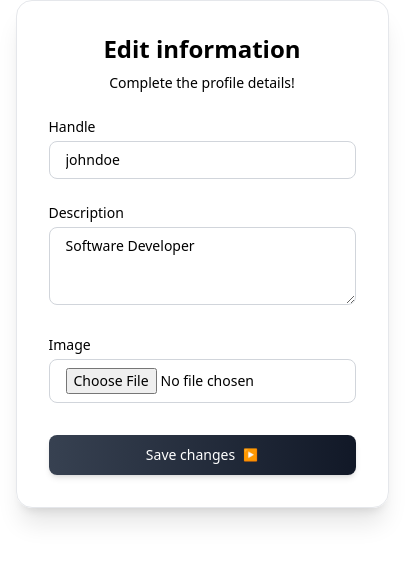
Test case: ProfileView › should show validation error for required handle field
The width and height of the screenshot is (406, 566).
// Type something and then clear it to trigger validation
In the field with placeholder "Handle or user name": (202, 160) [48, 141, 356, 179], type "test"
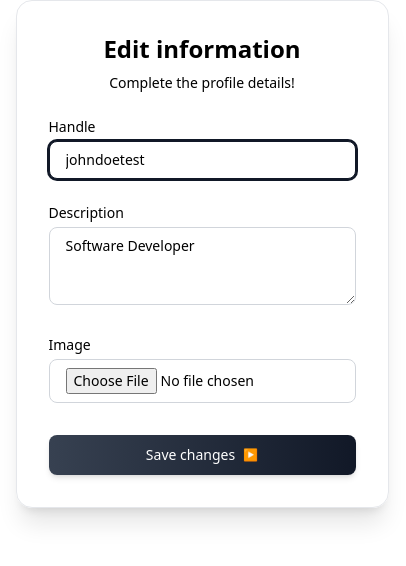
Clear the field with placeholder "Handle or user name": (202, 160) [48, 141, 356, 179]
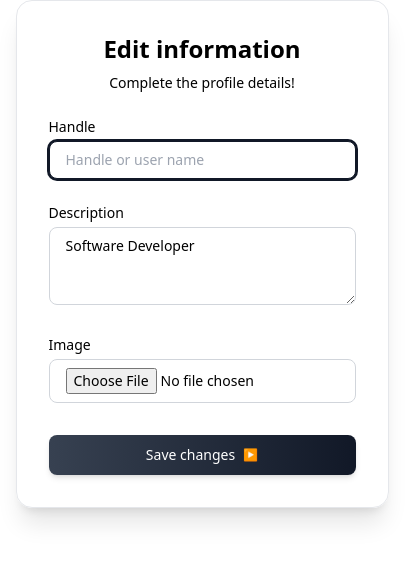
Click the button "Save changes ▶": (202, 455) [48, 435, 356, 475]
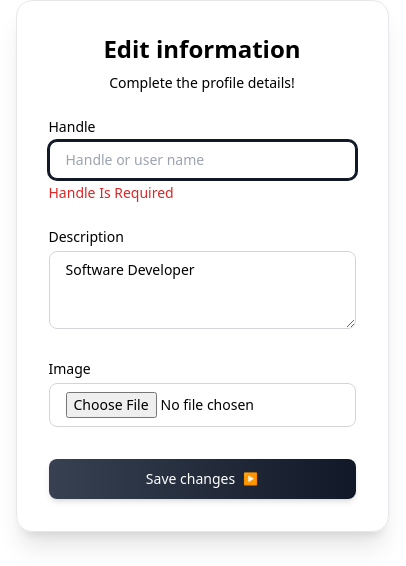
Now the text "handle is required" is shown, box [48, 183, 174, 202]
